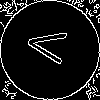V: (25, 25, 76, 67)
